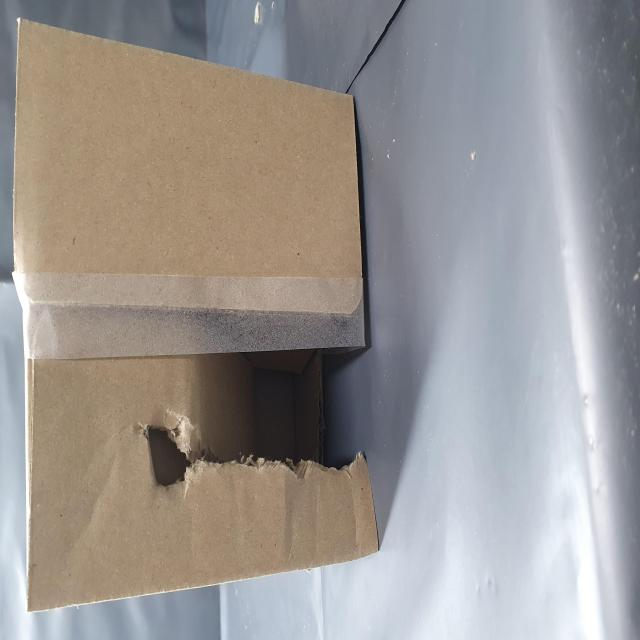damaged: (79, 259, 173, 640)
